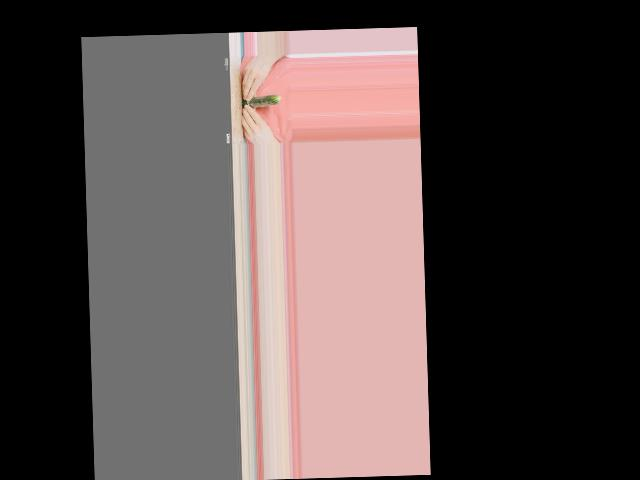cucumber: (241, 93, 280, 107)
